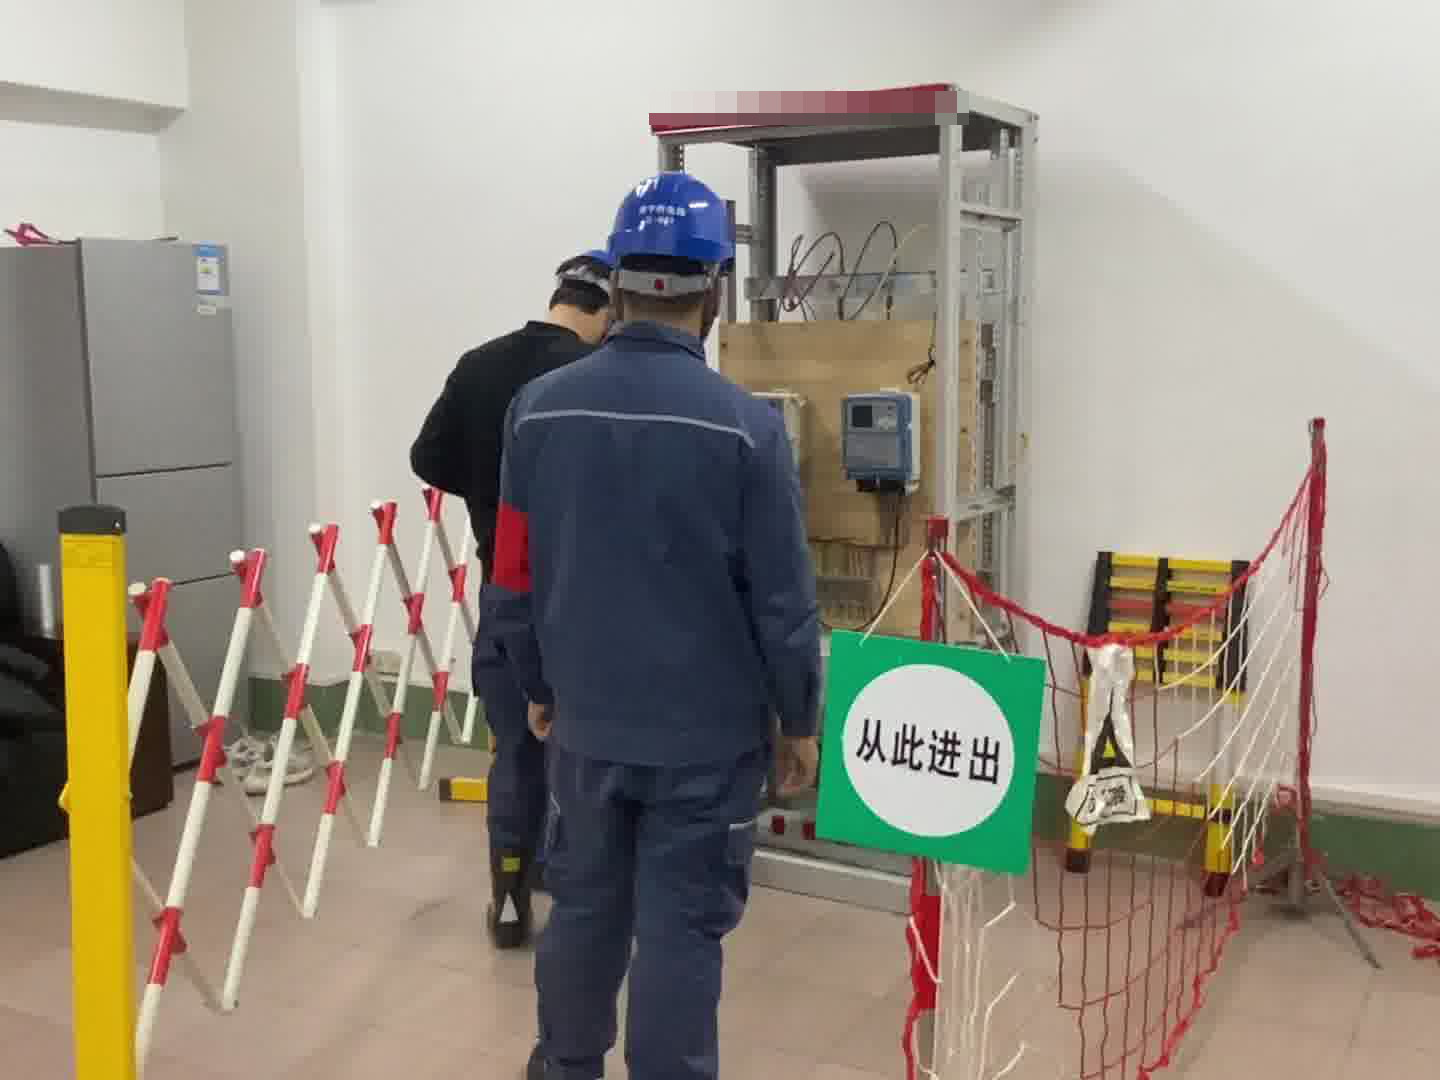badge: (481, 500, 538, 596)
downsuit: (521, 793, 756, 1080), (466, 665, 554, 830)
halt: (598, 171, 743, 335), (546, 248, 616, 329)
hand: (783, 736, 826, 799), (522, 703, 559, 752)
intosign: (814, 627, 1047, 877)
person: (500, 169, 831, 1080), (418, 259, 628, 938)
shoe: (479, 824, 545, 949)
upcloth: (409, 319, 581, 530)
upsuit: (468, 325, 827, 790)
